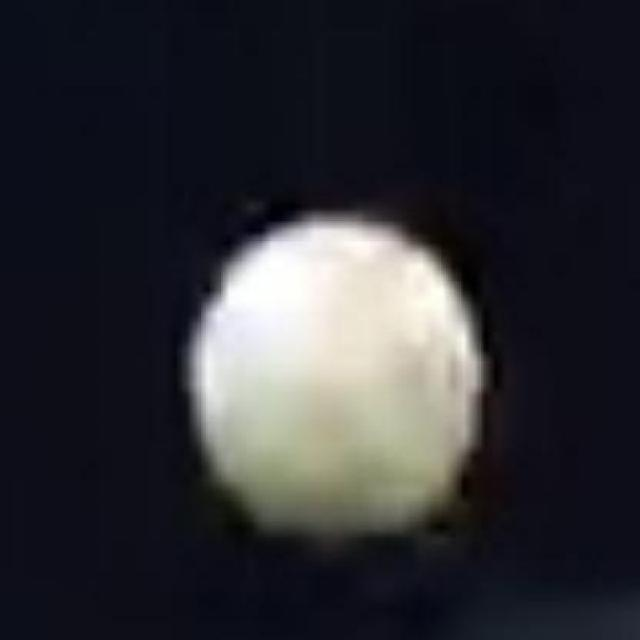-: (199, 211, 484, 560)
